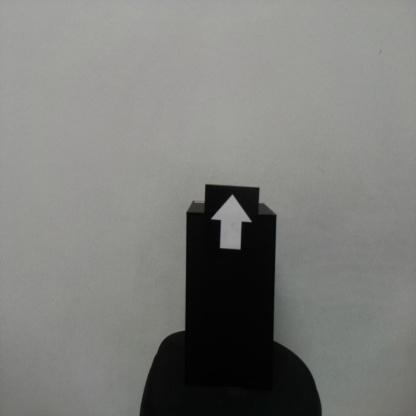id_1: (206, 186, 260, 266)
